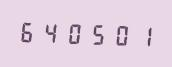five: (84, 19, 105, 47)
four: (39, 18, 60, 46)
one: (128, 21, 149, 49)
six: (17, 17, 38, 45)
zero: (106, 20, 127, 48), (62, 19, 83, 46)
